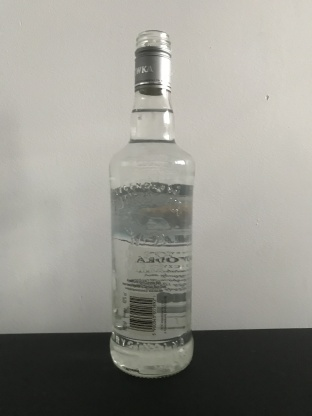nakretka: (132, 28, 173, 96)
